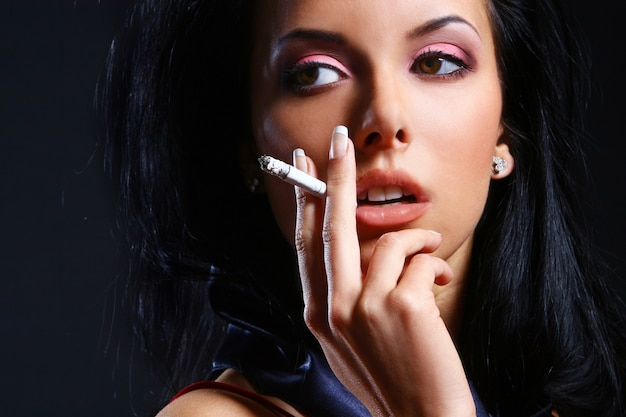cigarette: (258, 153, 328, 199)
